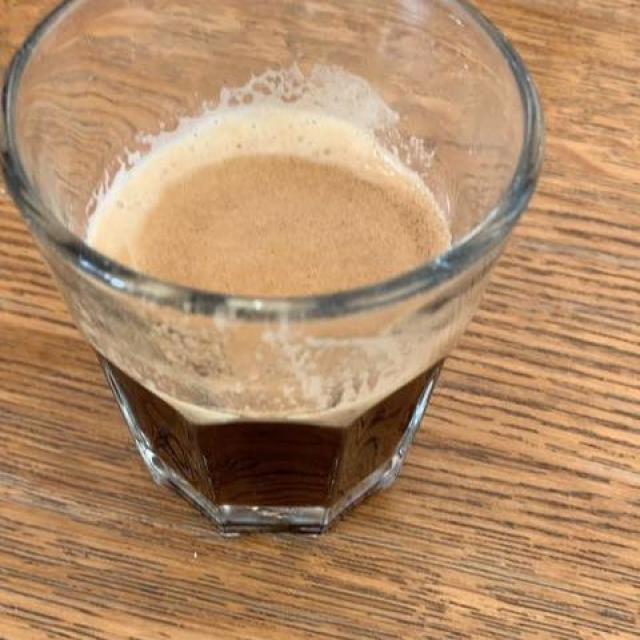drink: (97, 146, 426, 297)
